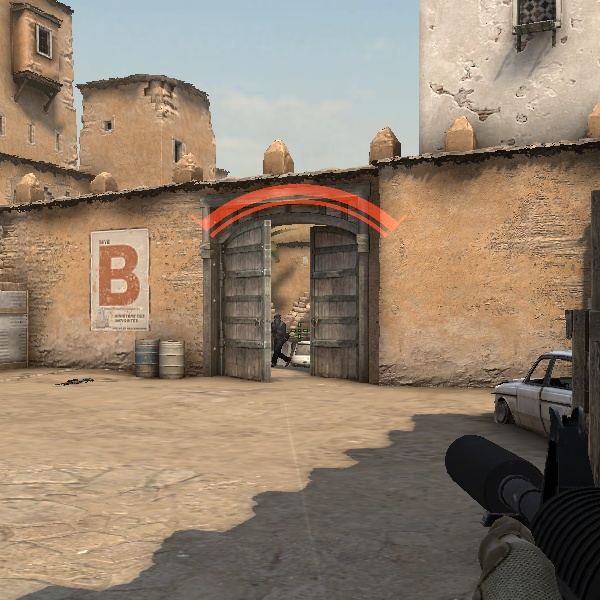ct_body: (266, 311, 295, 367)
